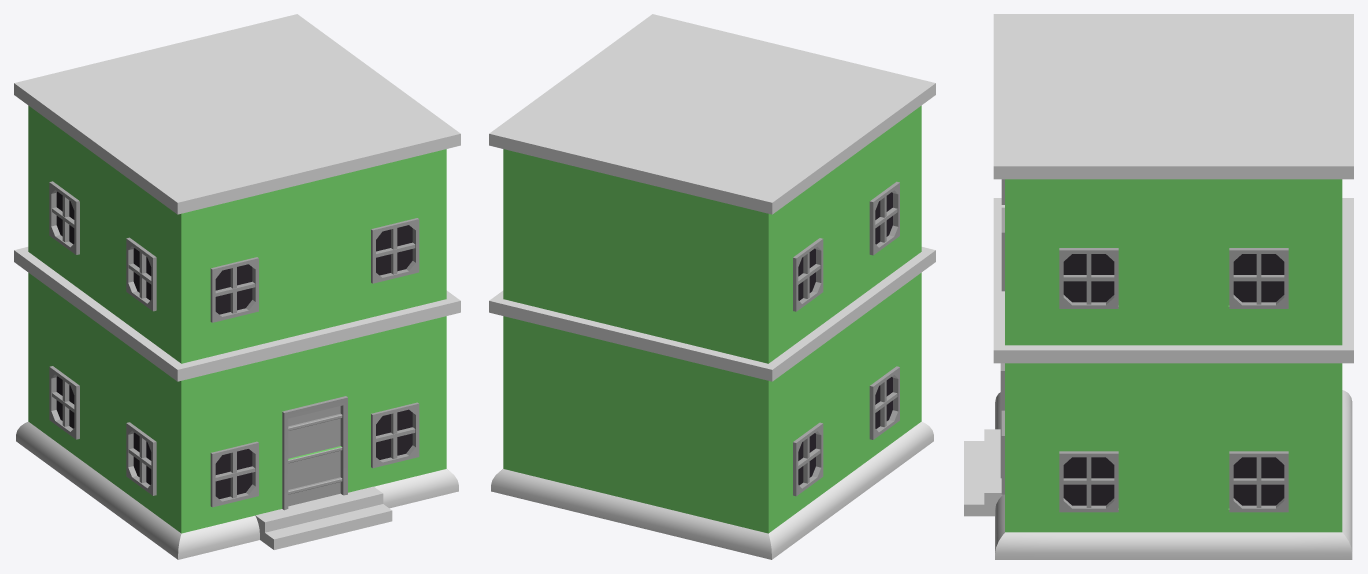
File: house green 2nd flor.fbx
The picture shows the model from 3 angles, left to right: view 1: azimuth 30°, elevation 25°; view 2: azimuth 150°, elevation 25°; view 3: azimuth 270°, elevation 25°; orthographic projection. The views are drawn at different scales.
Parts seen in each view (by area): view 1: Cube; view 2: Cube; view 3: Cube.
Boxes of the visible parts, box(x1,y1,x2,y2) form: Cube: box(14, 14, 460, 559); Cube: box(489, 14, 935, 559); Cube: box(964, 14, 1353, 559).
Bounding box in the file's own units: 9.21 × 11.12 × 9.96.
